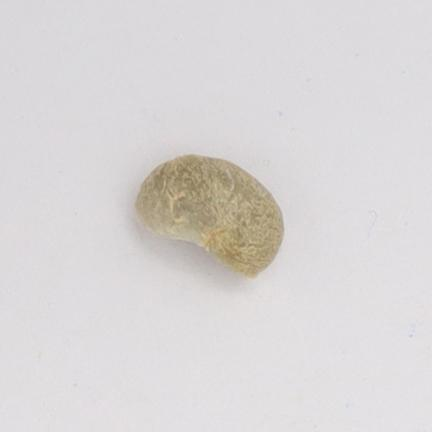husk: (136, 156, 283, 276)
